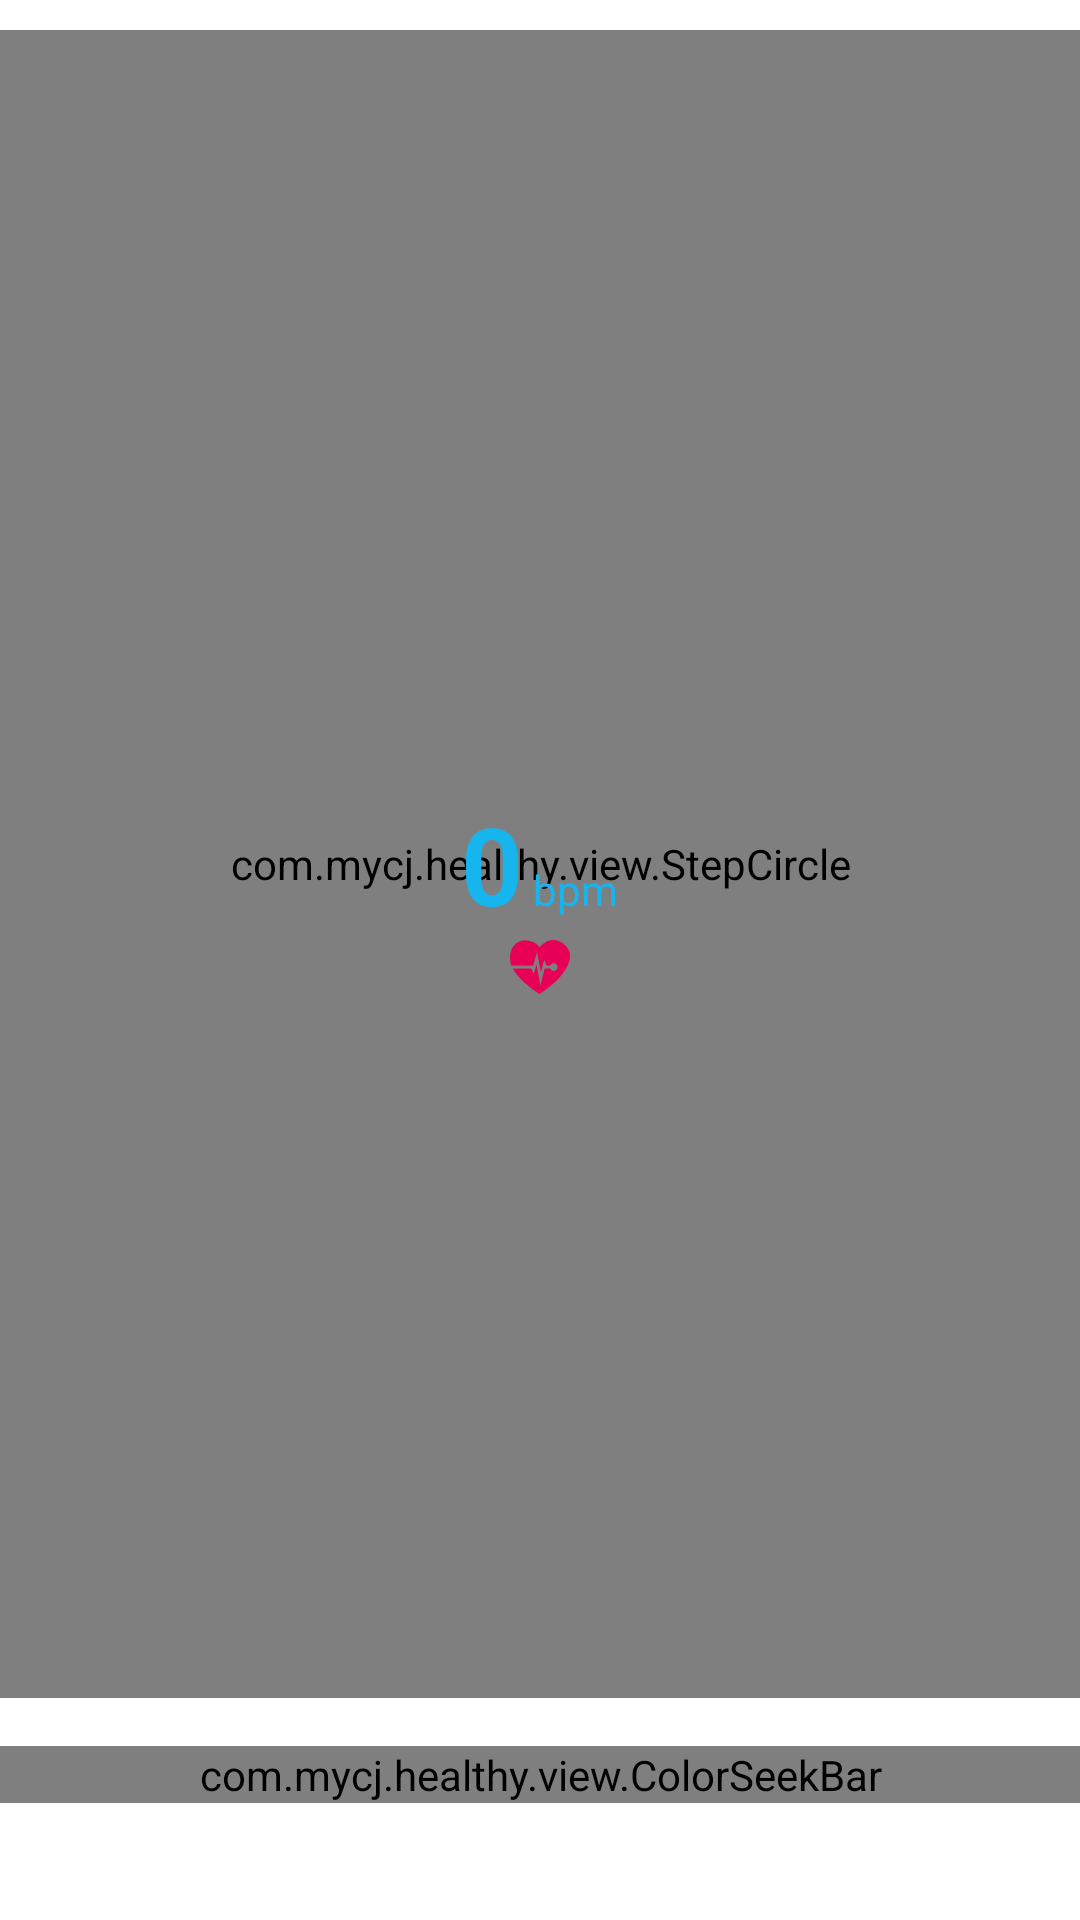

Named icons in this screenshot (1080*1920) and their centers, (x,y):
heart: (540,967)
